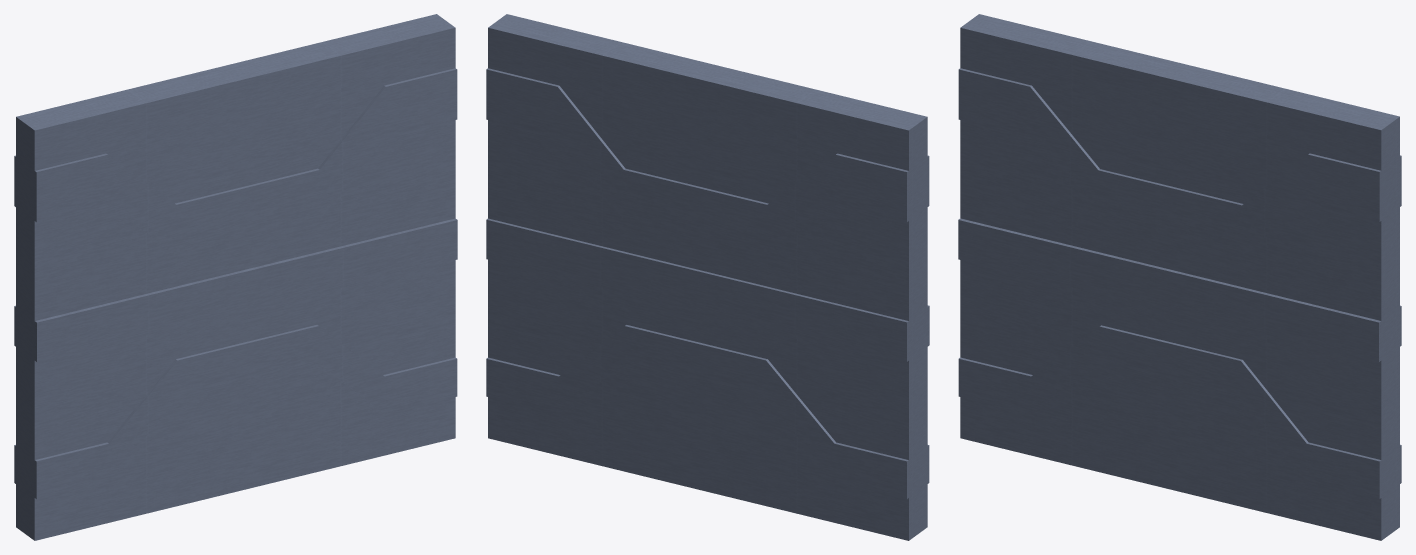
File: EngineeringBayDoor.fbx
3 views of the same model, side by side, from view 1: azimuth 30°, elevation 25°; view 2: azimuth 150°, elevation 25°; view 3: azimuth 330°, elevation 25° (orthographic).
Parts seen in each view (by area): view 1: Cube.011, Cube.001; view 2: Cube.011, Cube.001; view 3: Cube.011, Cube.001.
Boxes of the visible parts, <box> form: Cube.011: <box>14,14,455,540</box>; Cube.001: <box>14,68,457,499</box>; Cube.011: <box>488,14,929,540</box>; Cube.001: <box>486,68,929,498</box>; Cube.011: <box>960,14,1401,540</box>; Cube.001: <box>958,68,1401,498</box>.
Bounding box in the file's own units: 1090 × 1017 × 102.
